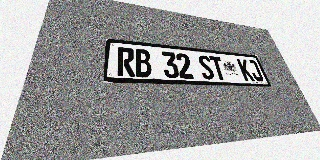2: (175, 53, 194, 79)
3: (161, 51, 180, 78)
B: (134, 49, 152, 77)
J: (246, 60, 265, 82)
K: (236, 59, 255, 81)
R: (117, 47, 135, 77)
S: (197, 55, 216, 80)
T: (209, 56, 228, 80)
